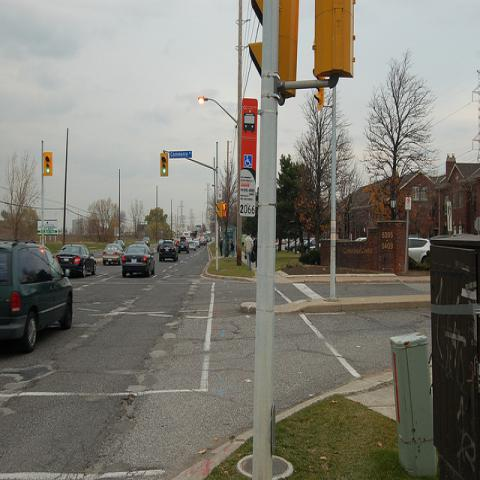car: (1, 238, 74, 354), (174, 228, 369, 256), (55, 244, 96, 278), (122, 244, 155, 278), (409, 236, 431, 268), (103, 243, 125, 265), (158, 239, 178, 262), (304, 237, 316, 254), (178, 240, 189, 253), (157, 238, 164, 254), (114, 239, 126, 248), (142, 236, 151, 246), (134, 241, 147, 246), (200, 237, 207, 246)
